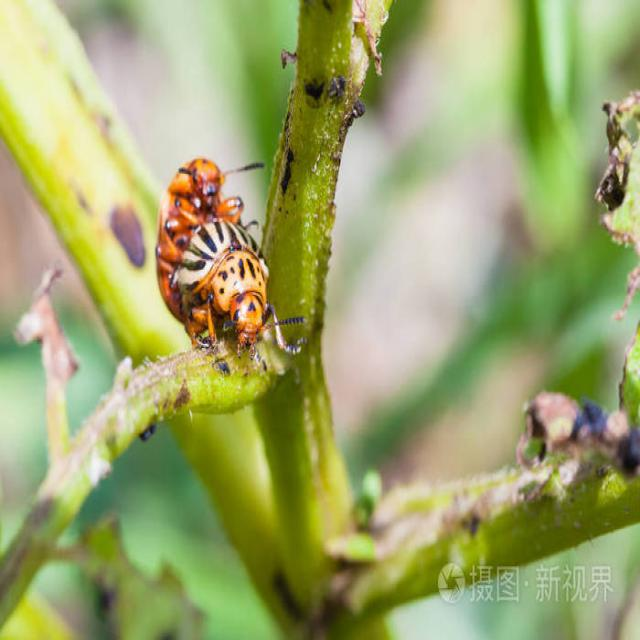ShuCaiHuaBanChong-Grown-: (178, 214, 284, 348)
